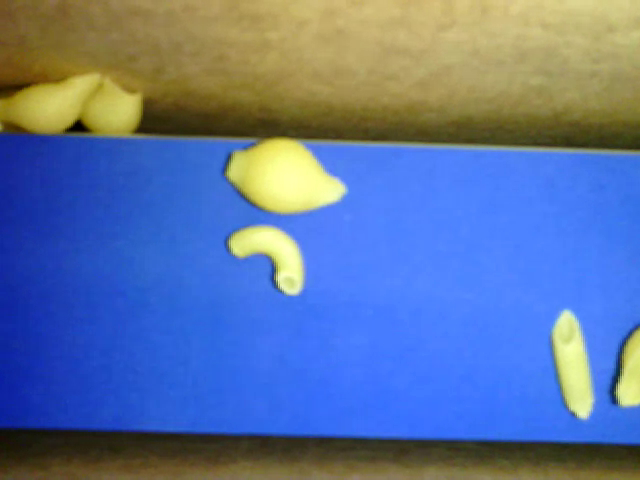elbow: (225, 225, 302, 294)
penne: (548, 311, 591, 415)
shell: (222, 139, 350, 214), (1, 68, 101, 135), (81, 76, 143, 136), (609, 319, 639, 410)
